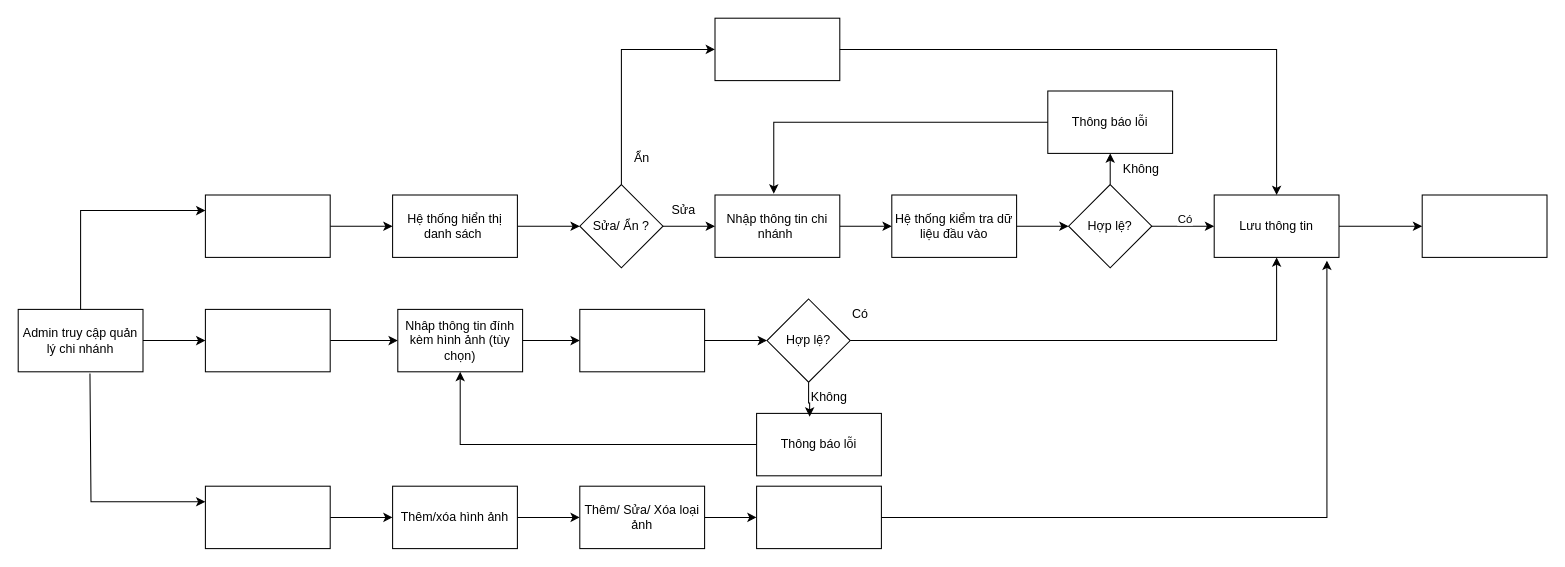
The diagram is 1565 pixels wide and 567 high, and some of its shapes have lost their labels. Each missing label, with the centre of its shape:
"Hình ảnh chi nhánh" belongs at [267,517].
"Hệ thống kiểm tra thông tin" belongs at [642,340].
"Kết thúc" belongs at [1484,225].
"Mục danh sách chi nhánh" belongs at [267,225].
"Sắp xếp thứ tự hiển thị" belongs at [818,517].
"Tạo chi nhánh" belongs at [267,340].
"Ẩn chi nhánh" belongs at [777,49].
